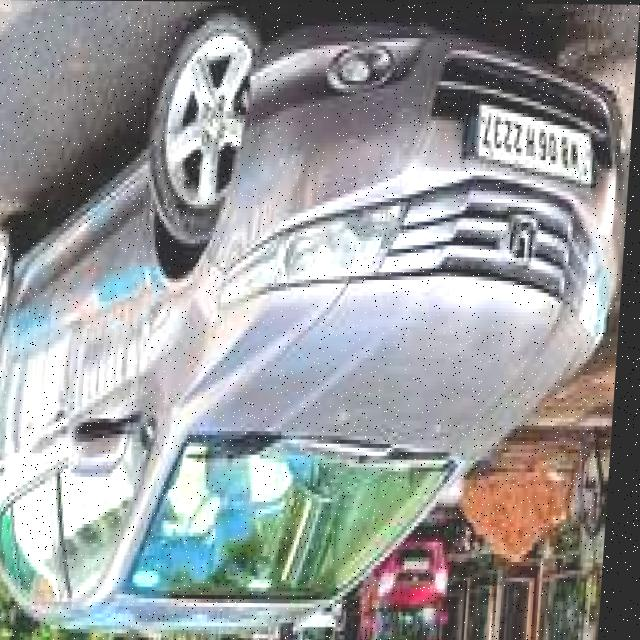plate: (465, 97, 598, 187)
